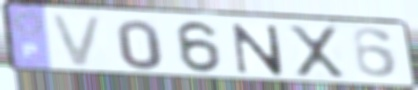0: (113, 17, 166, 72)
6: (352, 25, 400, 85), (174, 19, 223, 75)
N: (230, 22, 286, 77)
V: (46, 12, 107, 69)
X: (285, 24, 350, 80)
